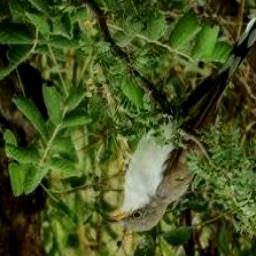Cuckoo: (103, 16, 256, 231)
